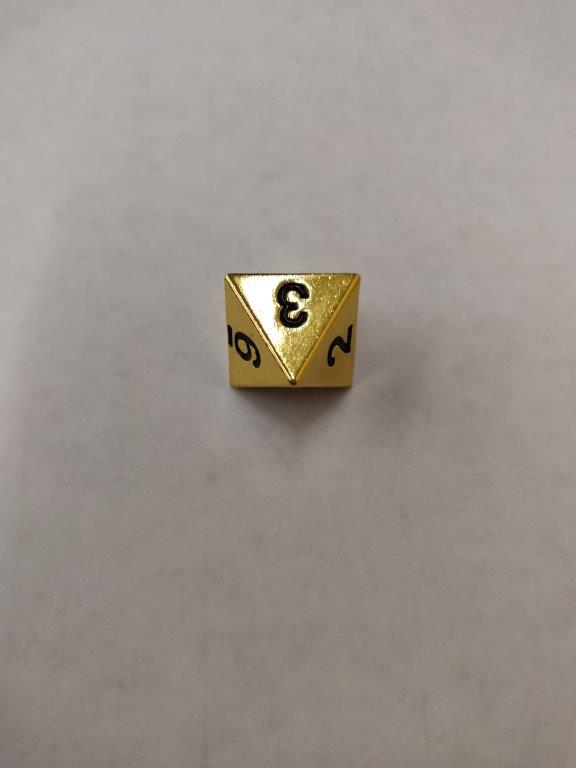d8-3: (224, 274, 359, 387)
